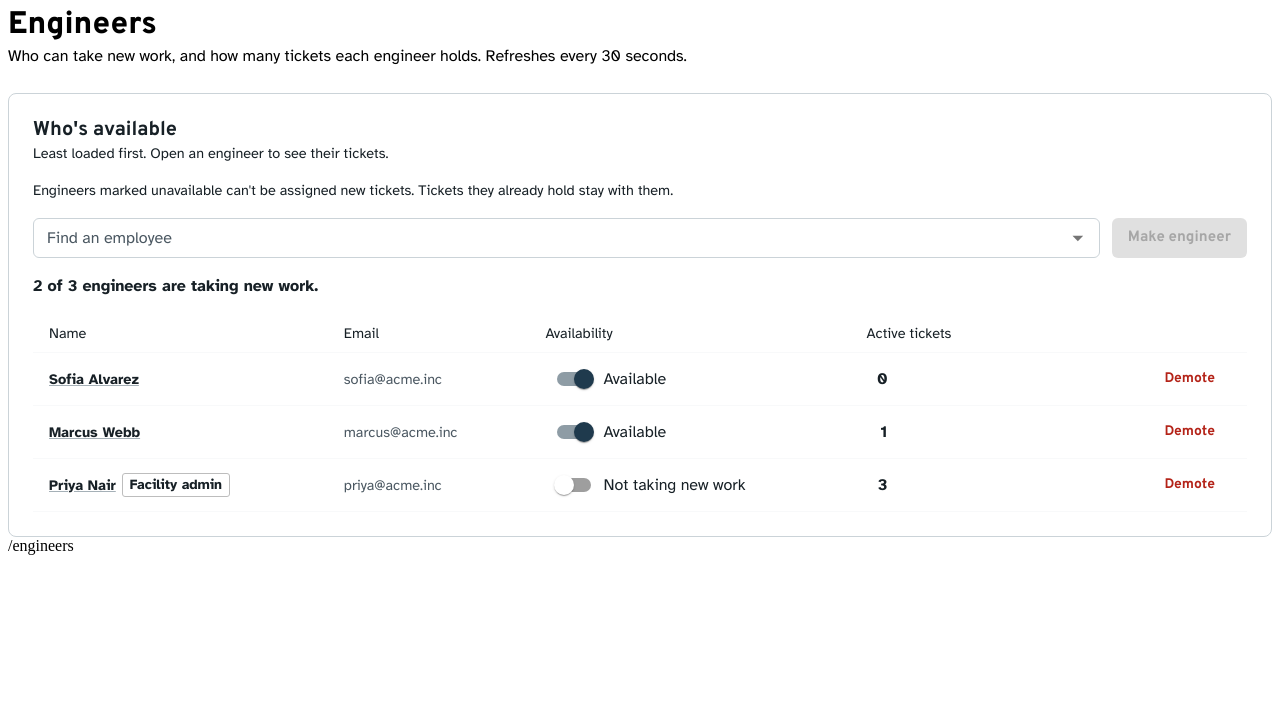
Test: Who's available › demotes on confirm, lists the tickets sent back to triage, and re-reads the list
The width and height of the screenshot is (1280, 720).
Click the button with aria-label "Demote Priya Nair". click: {"x": 1190, "y": 485}
box: top-left (1148, 465), bottom-right (1231, 505)
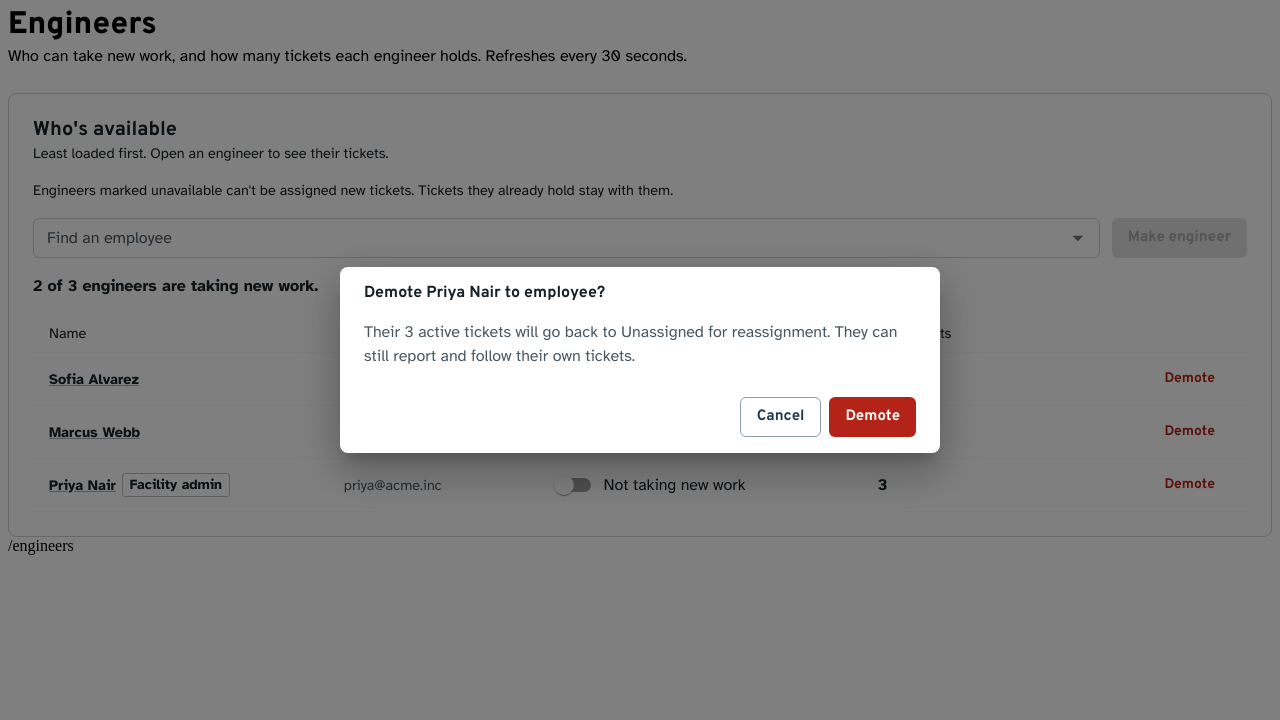
Click the button "Demote". click: {"x": 873, "y": 417}
box: top-left (829, 397), bottom-right (916, 437)
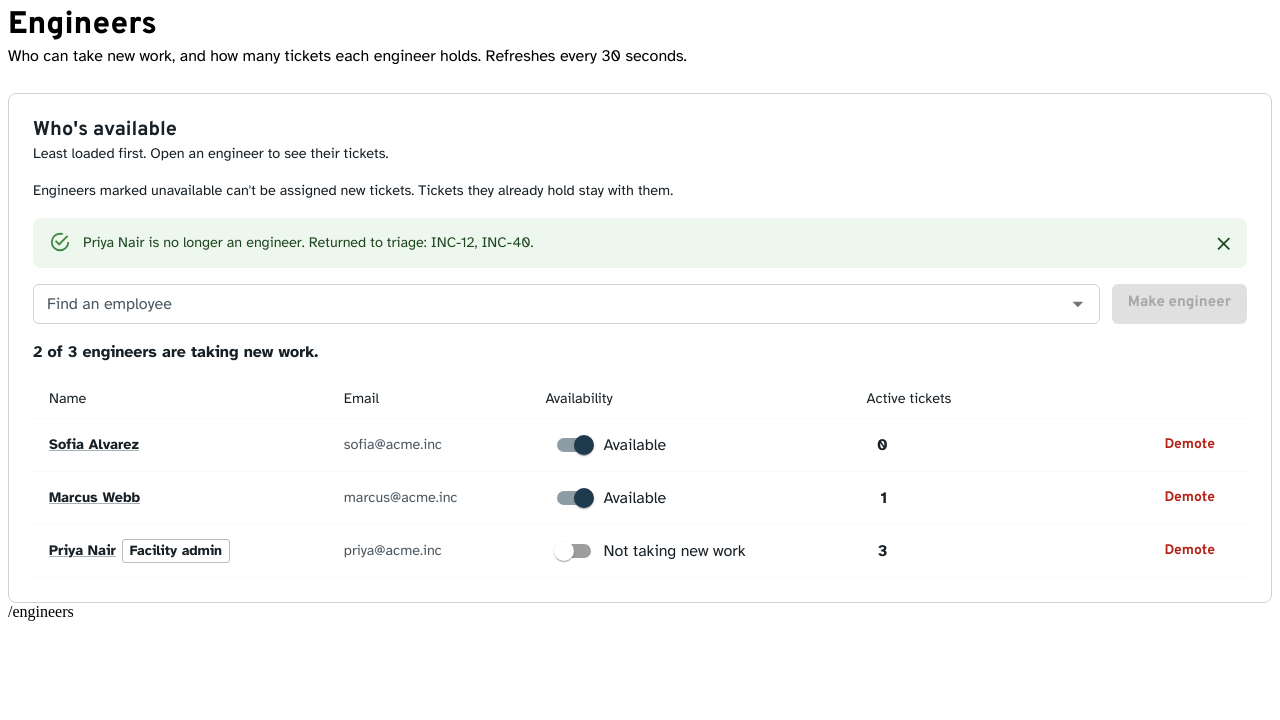
Result: the text "Priya Nair is no longer an engineer. Returned to triage: INC-12, INC-40." is shown at top-left (83, 233), bottom-right (534, 251)
